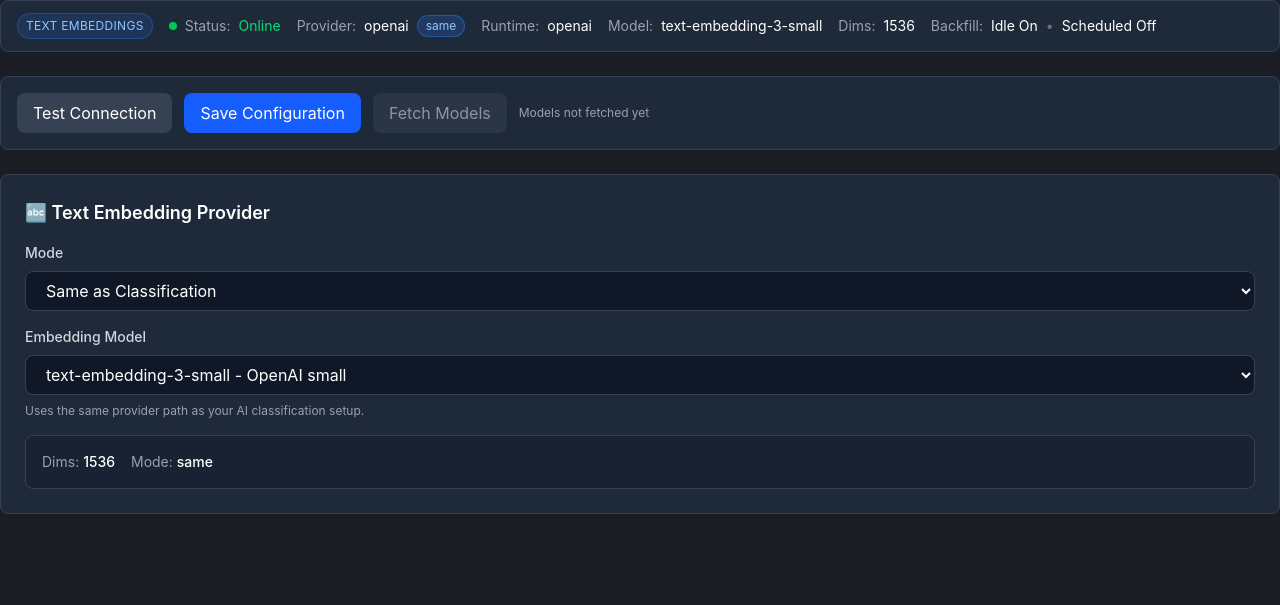
it: TextEmbeddingsTab.vue › tests the current provider connection and reports success
Step 1. Click the button "Test Connection" → [95, 113], box top-left (17, 93), bottom-right (172, 133)
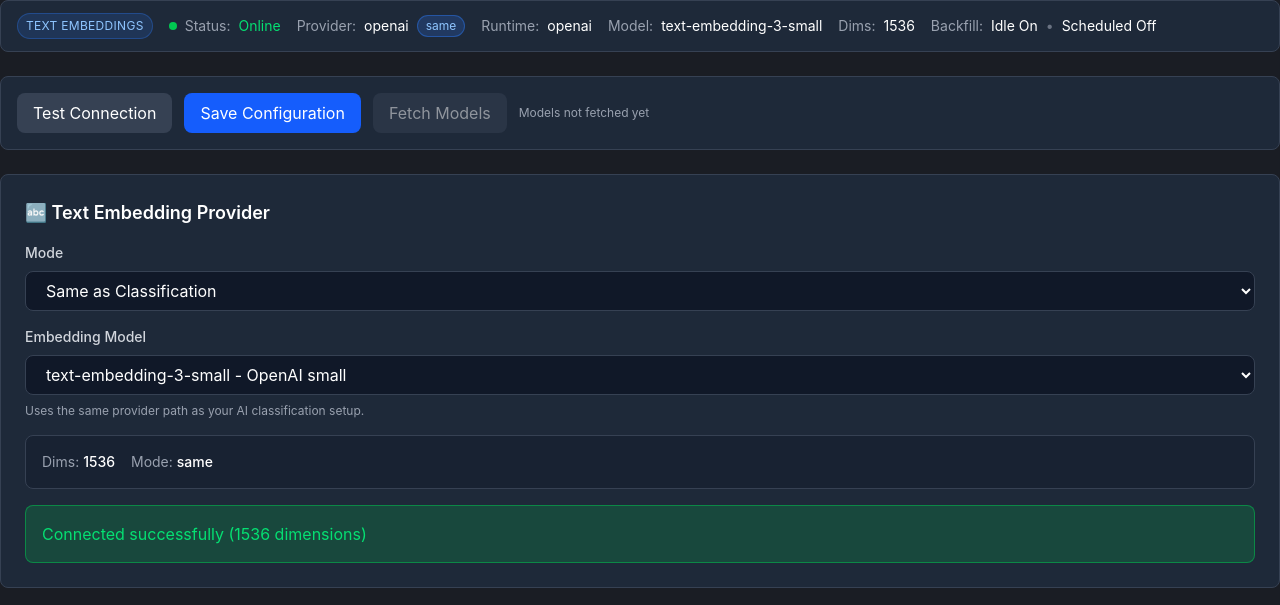
Expected: the text "Connected successfully (1536 dimensions)" is shown, top-left (25, 505), bottom-right (1255, 563)
